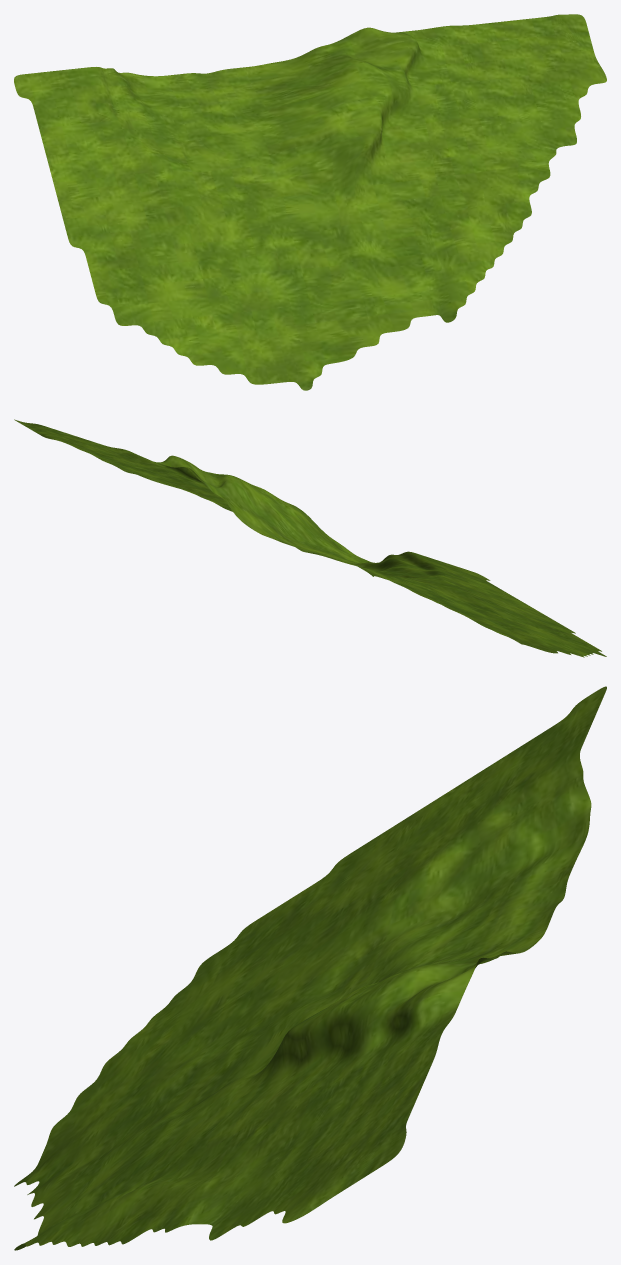
The model's file is groundmodel.fbx.
3 renders of one model, top to bottom at view 1: azimuth 30°, elevation 25°; view 2: azimuth 150°, elevation 25°; view 3: azimuth 270°, elevation 25°, orthographic. The views are drawn at different scales.
Parts seen in each view (by area): view 1: Grid; view 2: Grid; view 3: Grid.
Part boxes in pixels (left/top/right/bottom): Grid: left=14, top=14, right=606, bottom=390; Grid: left=14, top=419, right=606, bottom=657; Grid: left=14, top=686, right=606, bottom=1250.
Size of the model in its own units: 6733 by 2709 by 3707.
1 material, 1 textured.
